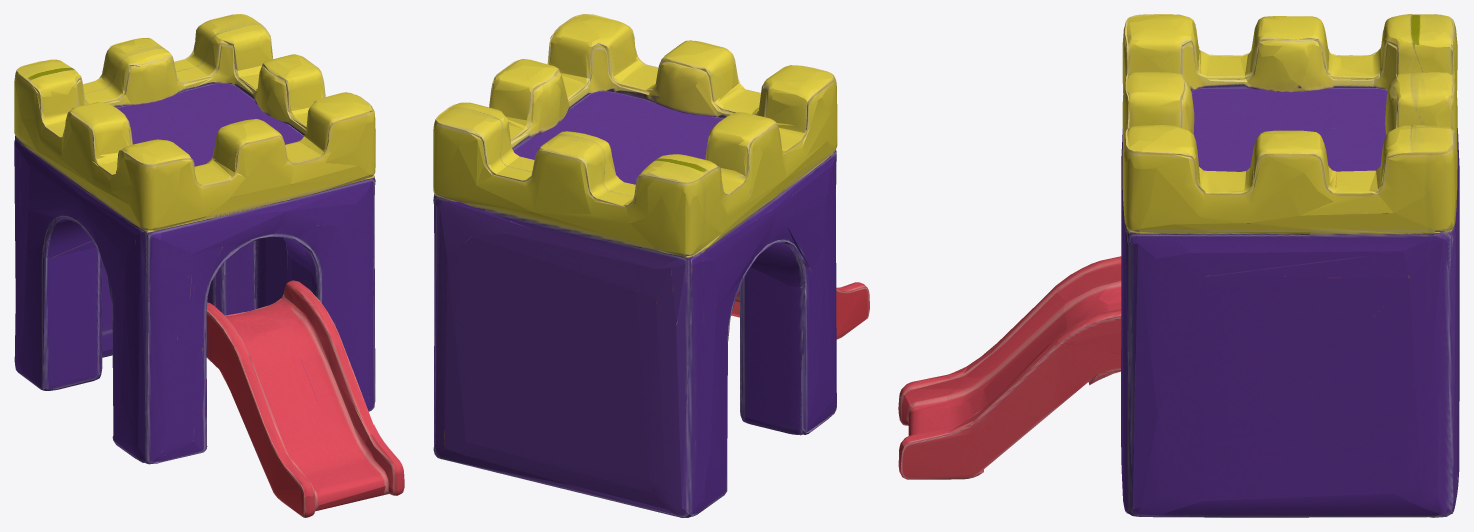
File: toddler_castle.glb
3 renders of one model, left to right at view 1: azimuth 30°, elevation 25°; view 2: azimuth 150°, elevation 25°; view 3: azimuth 270°, elevation 25°, orthographic. The views are drawn at different scales.
Bounding box in the file's own units: 1.14 × 1.39 × 1.9.
1 material, 1 textured.
